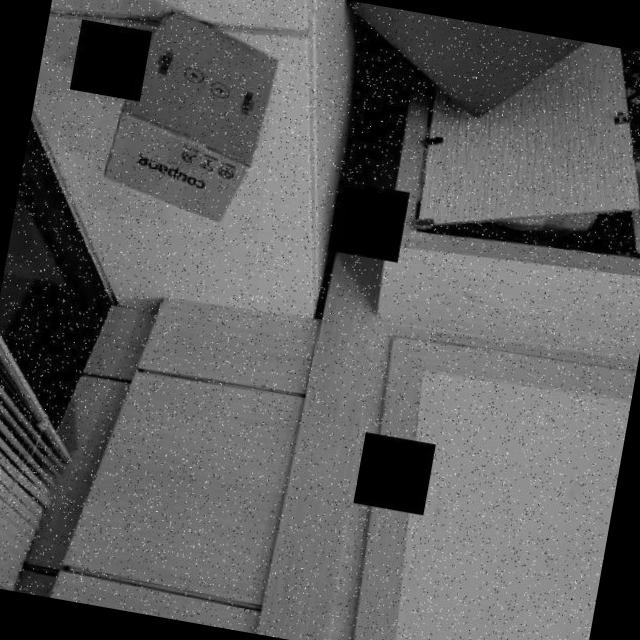box: (84, 0, 295, 237)
